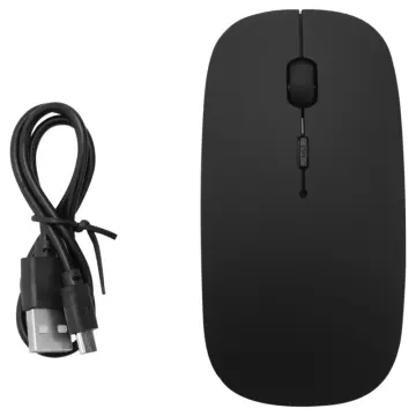not trash: (196, 7, 402, 406), (5, 104, 123, 364)
